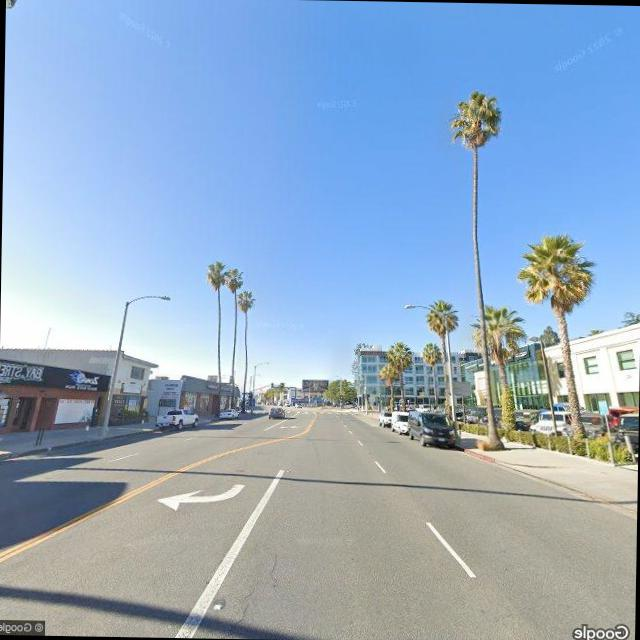pothole: (228, 542, 284, 632)
